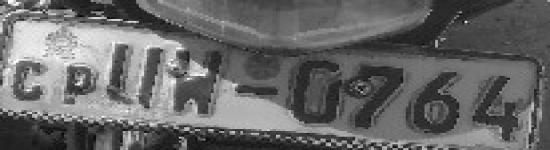-: (235, 86, 278, 97)
0: (294, 60, 341, 123)
4: (474, 76, 518, 143)
6: (410, 72, 460, 133)
7: (356, 66, 404, 132)
C: (15, 60, 47, 100)
P: (63, 64, 99, 106)
U: (112, 45, 160, 106)
W: (176, 48, 220, 117)
